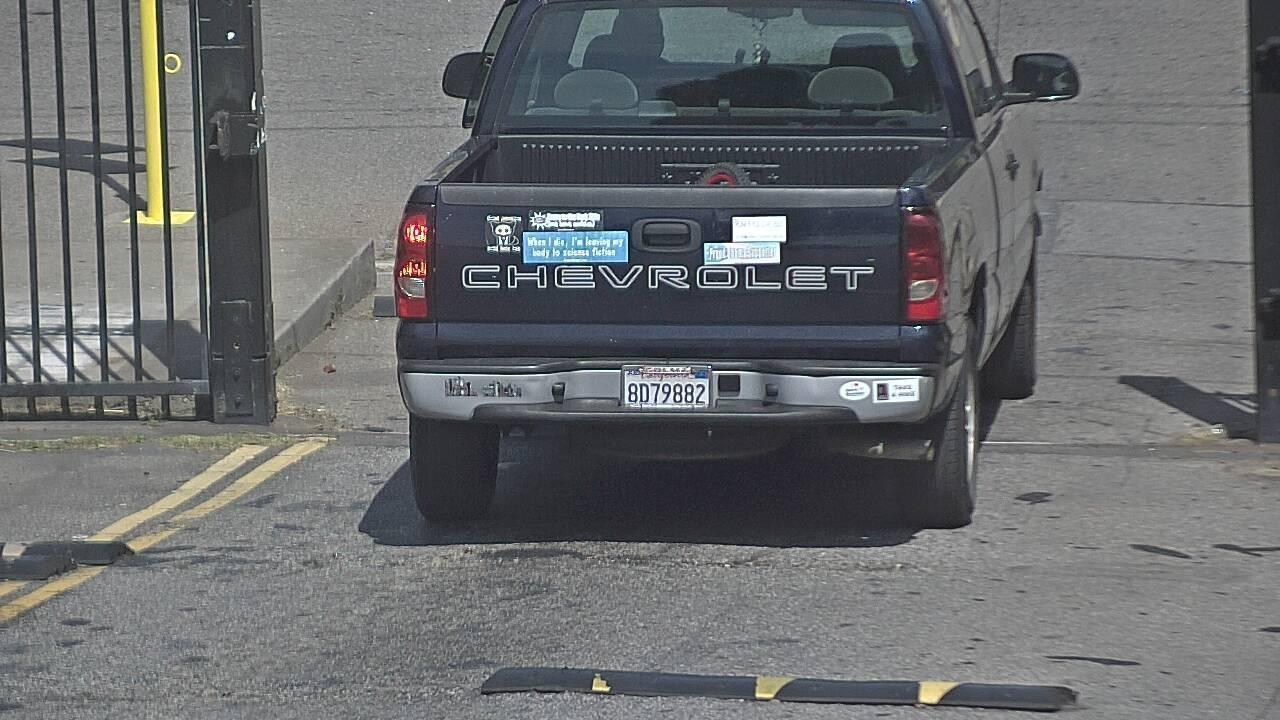placa de veiculo: (602, 342, 732, 427)
